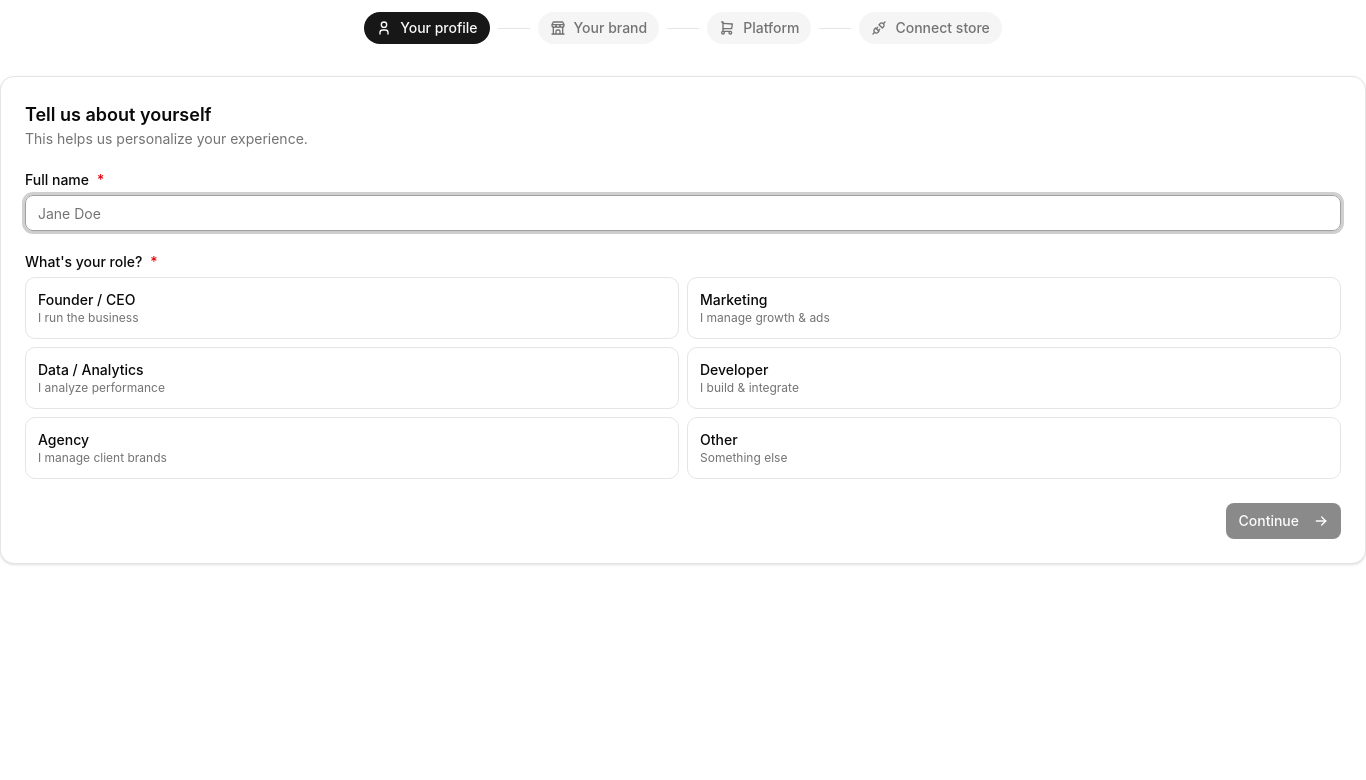
Test: OnboardingForm — step sequence › advances to brand step after completing profile
Type "Test User" into the field with test id "input-fullname" at (683, 213), box left=25, top=195, right=1341, bottom=231
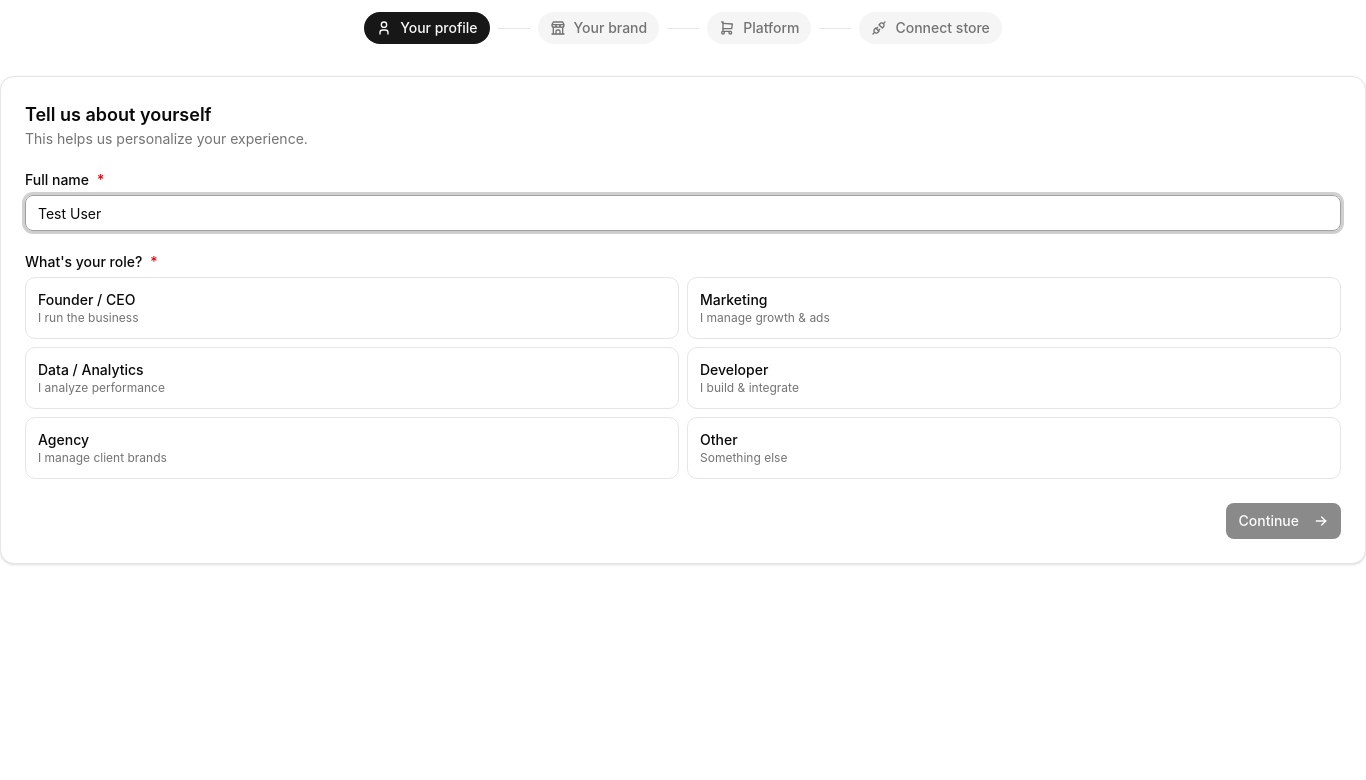
Click the radio button with test id "role-founder" at (87, 300), box left=25, top=277, right=679, bottom=339
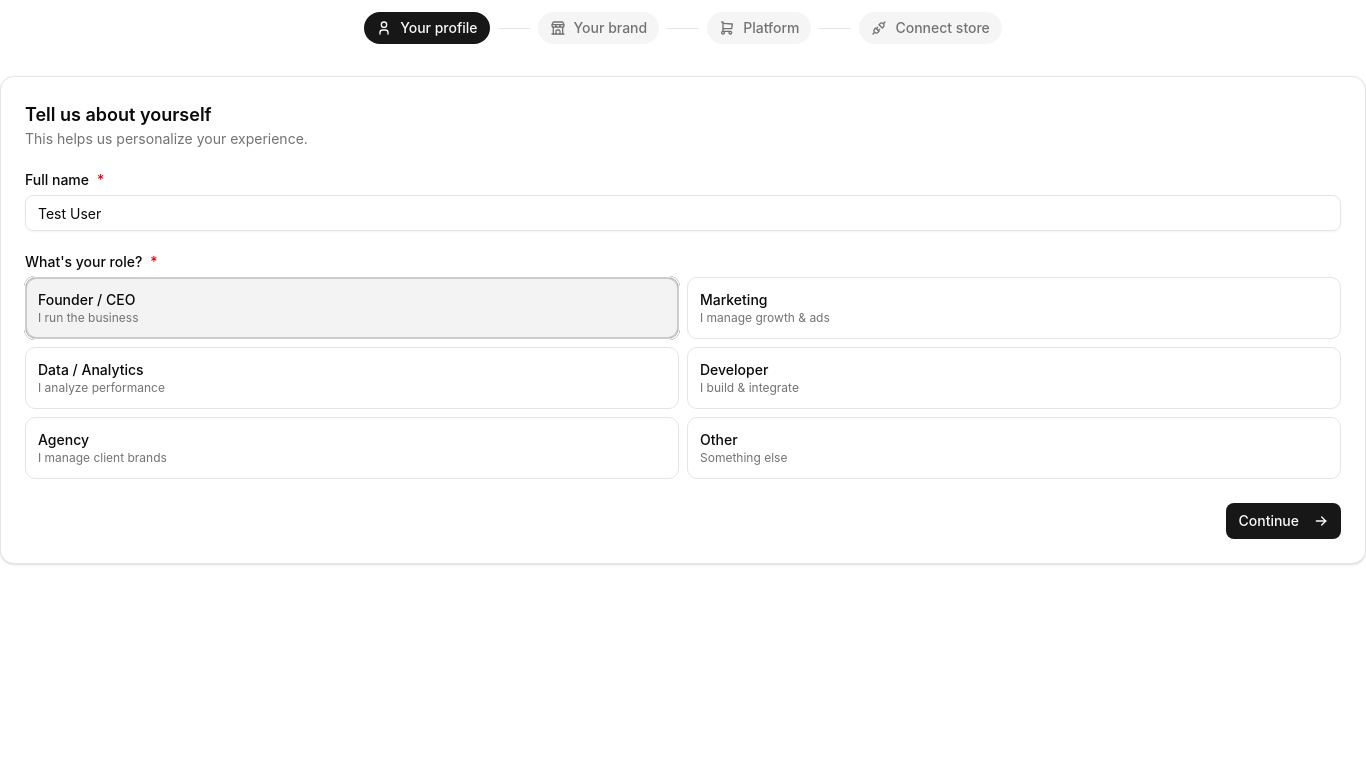
Click the button with test id "btn-continue" at (1284, 521), box left=1226, top=503, right=1341, bottom=539
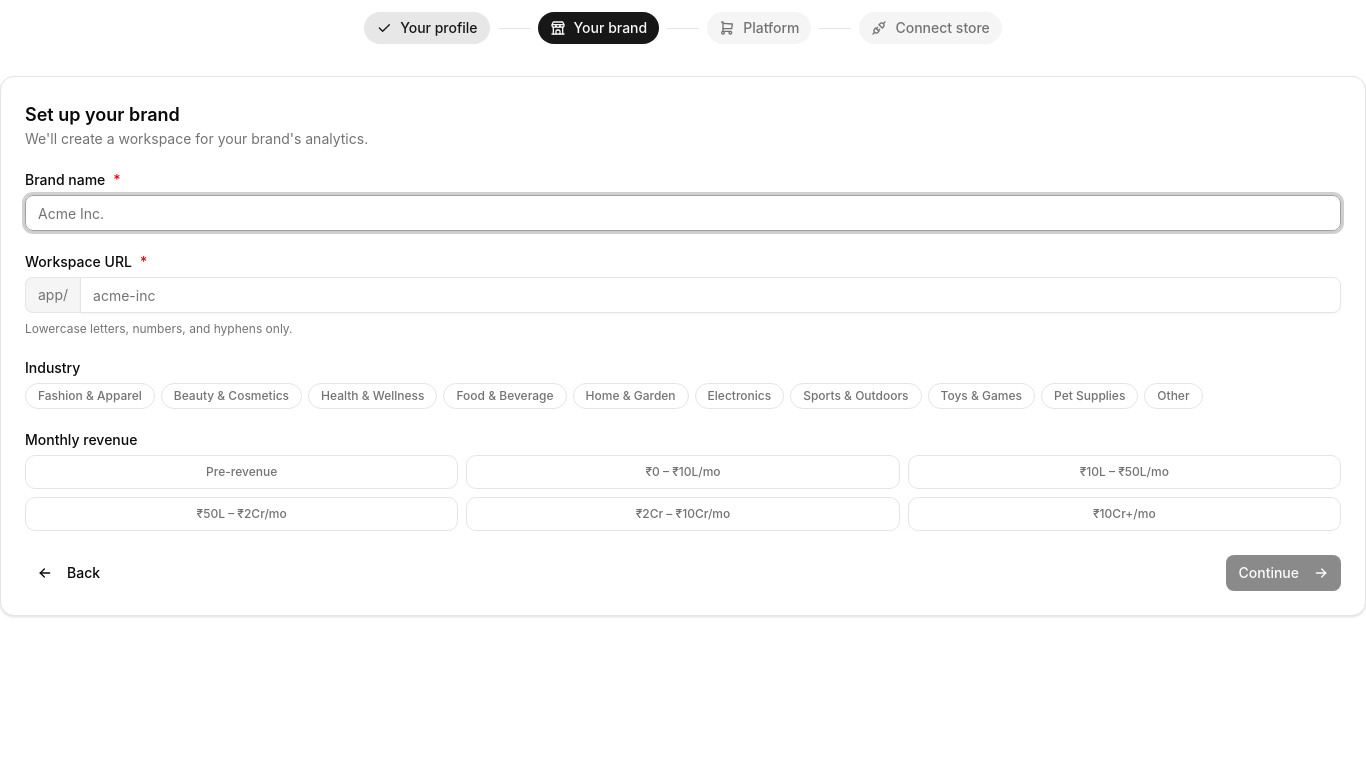
Check: the element with test id "step-brand" is shown, box left=25, top=101, right=1341, bottom=531
